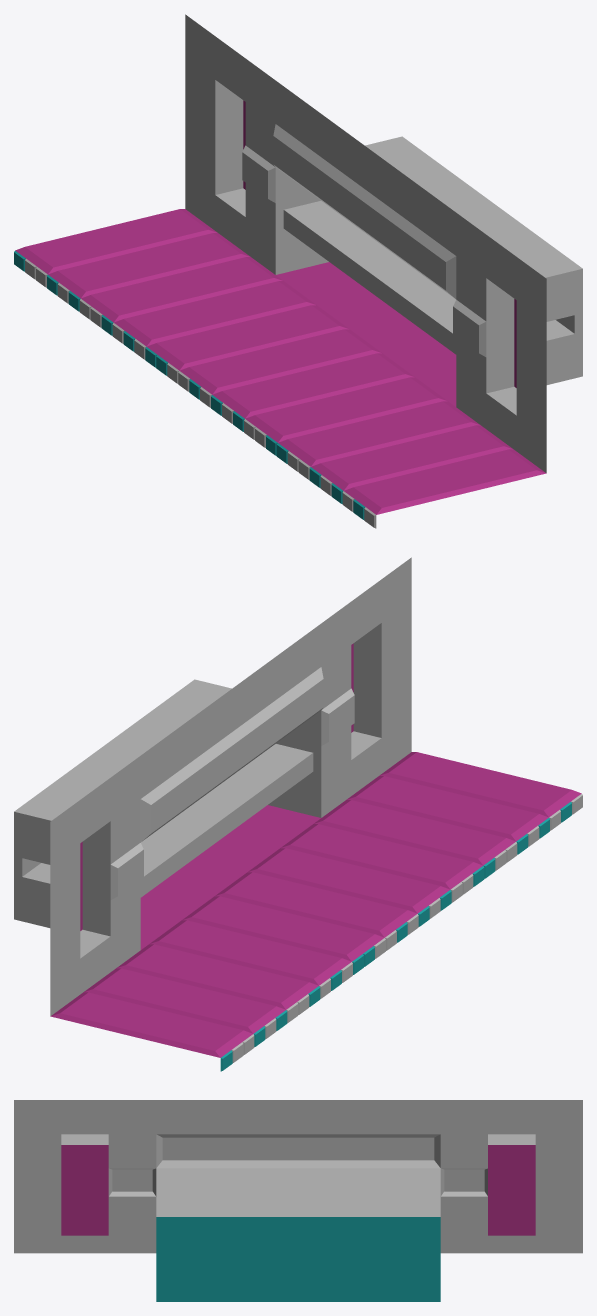
Rendered from road3.fbx.
The picture shows the model from 3 angles, top to bottom: view 1: azimuth 30°, elevation 25°; view 2: azimuth 150°, elevation 25°; view 3: azimuth 270°, elevation 25°; orthographic projection. The views are drawn at different scales.
Parts seen in each view (by area): view 1: road.004; view 2: road.004; view 3: road.004.
Part boxes in pixels (x1,y1,x2,y2): road.004: (14,14,582,528); road.004: (14,557,582,1071); road.004: (14,1100,582,1301).
Bounding box in the file's own units: 1159 × 773 × 2429.
